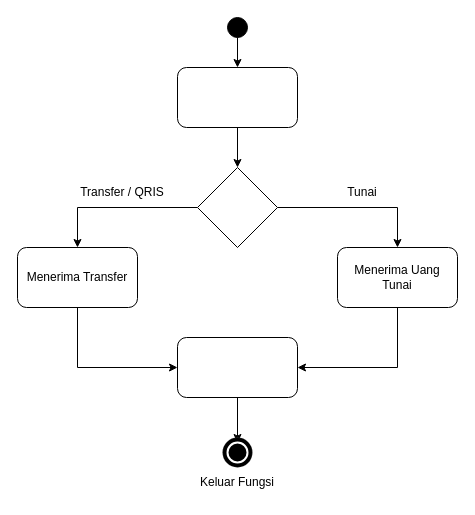
This 475x515 diagram has some shape labels left out. The shapes that lost their labels are listed below. From the top down, each one's centre as x and y in pixels, then its label:
At point (237, 97): "Memilih Jenis Pembayaran".
At point (237, 367): "Pencatatan Transaksi Pembayaran".
